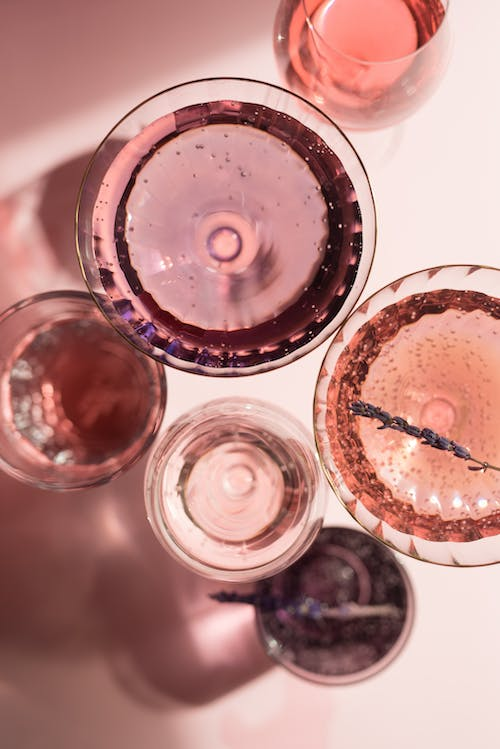alcohol: (72, 73, 377, 378), (310, 261, 500, 568), (0, 287, 170, 494), (142, 394, 326, 585), (251, 522, 417, 686), (270, 0, 456, 132)
